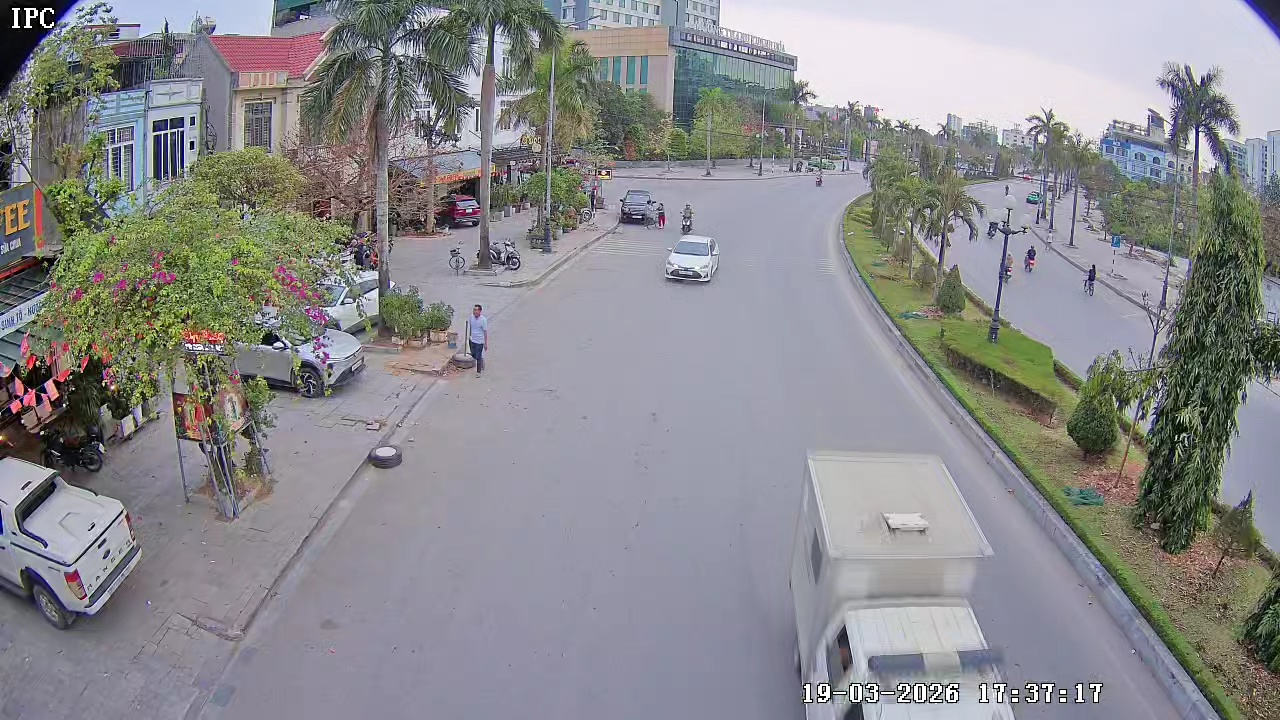car: (0, 475, 142, 629), (235, 328, 366, 398), (663, 232, 720, 285), (617, 187, 651, 225)
motorbike: (678, 200, 695, 234)
pedestrian: (454, 302, 493, 375)
